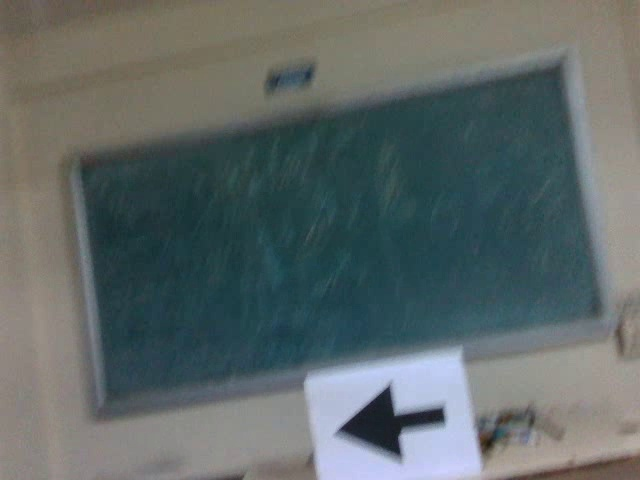Left: (328, 377, 456, 464)
